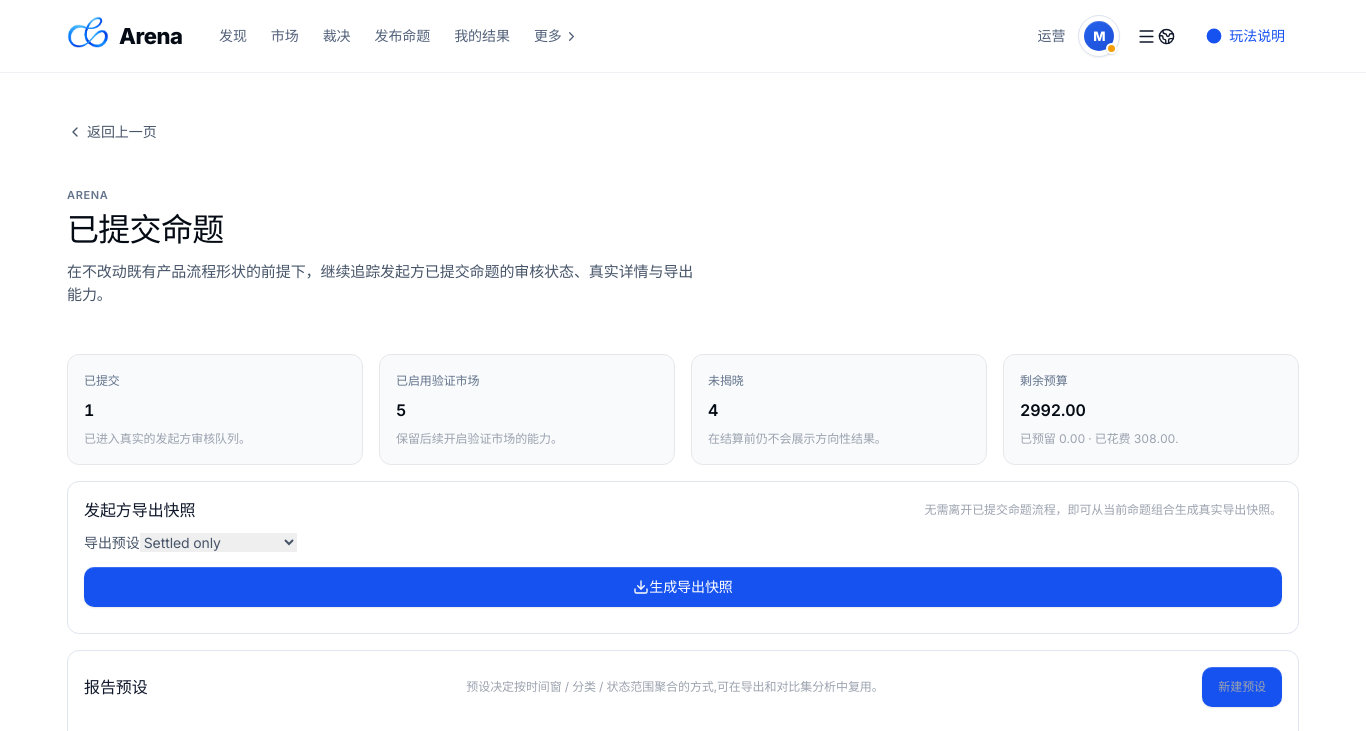
Test: submissions page export creation › creates requester export snapshots without relying on deprecated userId fields
The width and height of the screenshot is (1366, 731).
Click the button with test id "create-requester-export" at [683, 587], box [84, 567, 1282, 607]
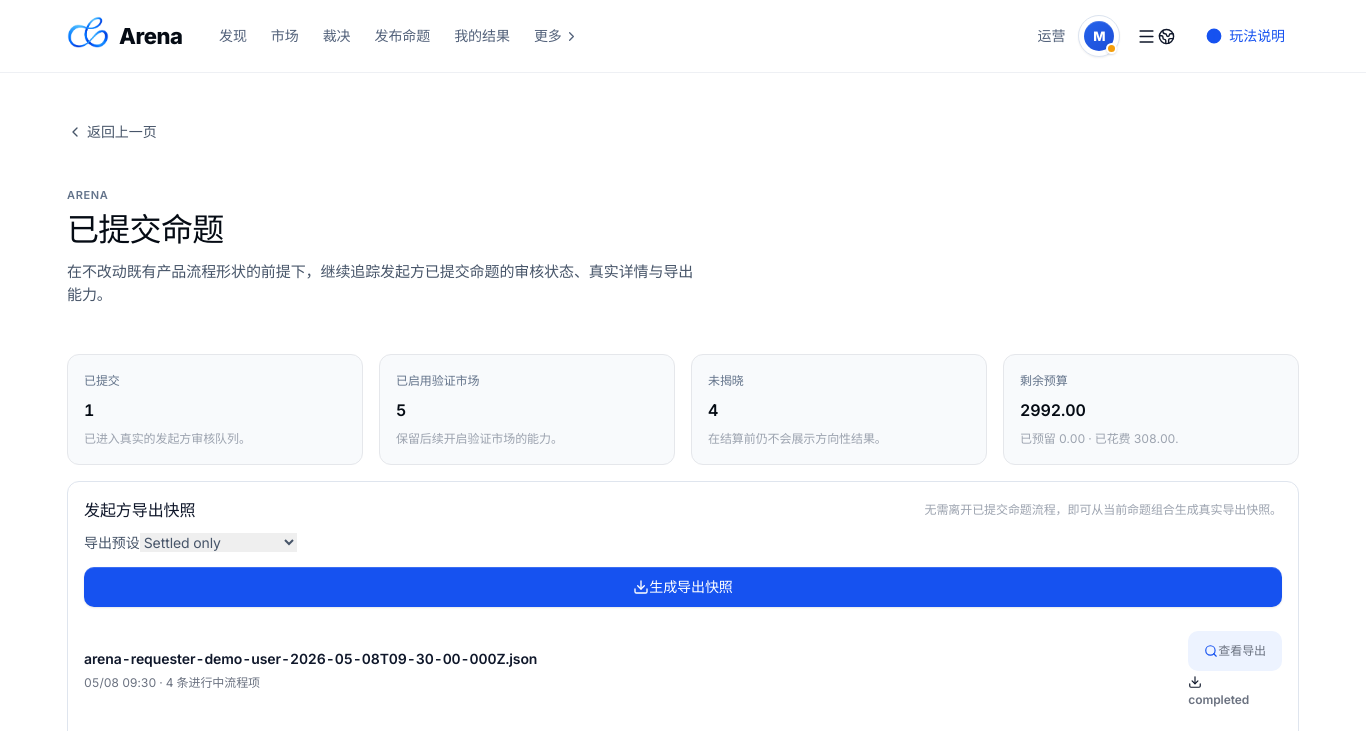
Now the number of elements with test id "requester-export-item" is 1, box [84, 617, 1282, 723]
Now the element with test id "requester-export-item" shows "arena-requester-demo-user-", box [84, 650, 537, 667]
